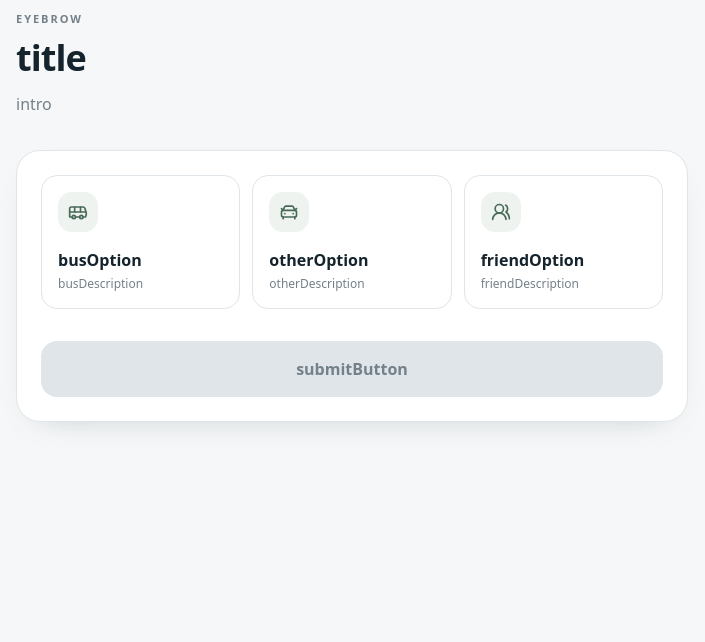
Test: ReportForm › shows the default time even when it is not in the available times
Click the button "busOption busDescription": (141, 242) left=41, top=175, right=240, bottom=309
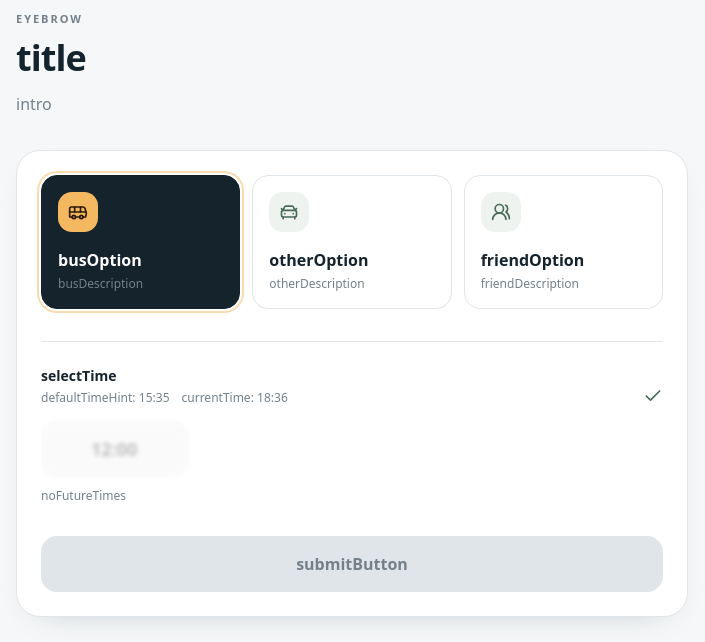
Now the text "defaultTimeHint: 15:35" is shown, box left=41, top=390, right=170, bottom=406
